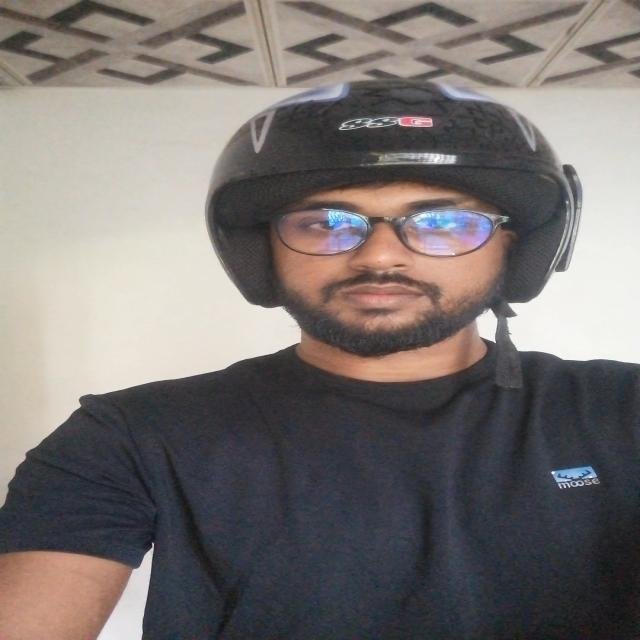Helmet_Wearer: (196, 66, 584, 440)
Person: (6, 78, 640, 622)
